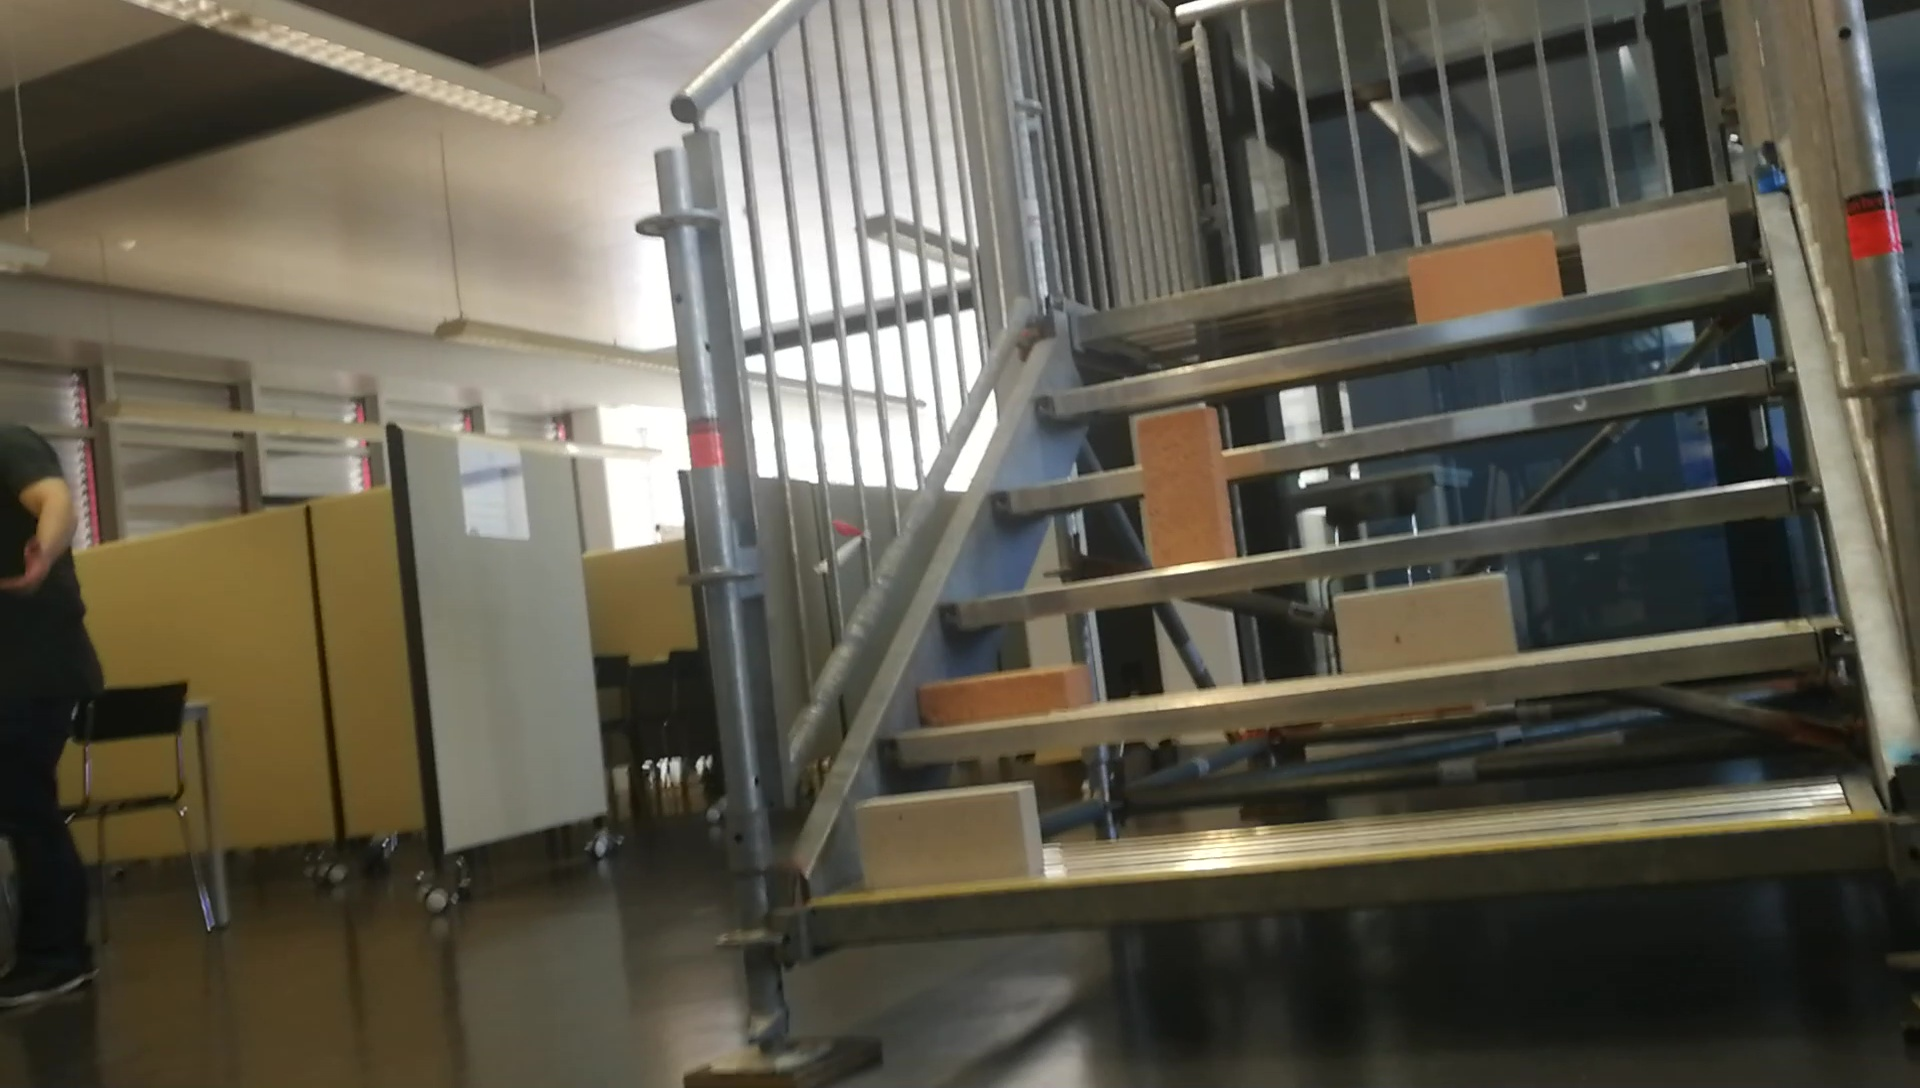brick: (857, 782, 1038, 892), (1340, 572, 1515, 673), (1141, 405, 1236, 564), (1578, 200, 1735, 291), (1407, 228, 1557, 320), (918, 662, 1089, 723), (1428, 185, 1557, 235)
edge: (944, 471, 1817, 638), (876, 620, 1847, 764), (808, 822, 1898, 946), (988, 355, 1792, 518), (1030, 266, 1766, 415)
stairs: (633, 3, 1920, 1088)
steps: (779, 179, 1908, 955)
